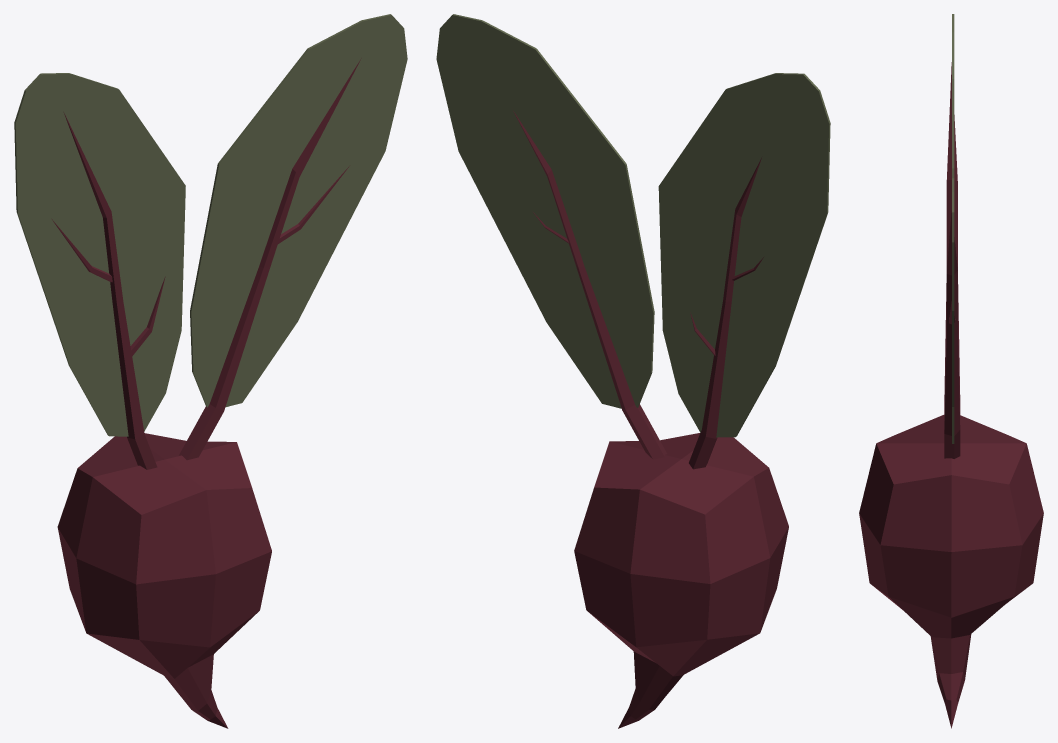
File: Beet_3.glb
3 renders of one model, left to right at view 1: azimuth 30°, elevation 25°; view 2: azimuth 150°, elevation 25°; view 3: azimuth 270°, elevation 25°, orthographic. The views are drawn at different scales.
Visible parts, largest first — view 1: Beet_3; view 2: Beet_3; view 3: Beet_3.
Part boxes in pixels (x1=…): Beet_3: x1=14, y1=14, x2=407, y2=728; Beet_3: x1=436, y1=14, x2=830, y2=728; Beet_3: x1=859, y1=14, x2=1043, y2=728.
Size of the model in its own units: 0.5093 by 0.8688 by 0.23.
